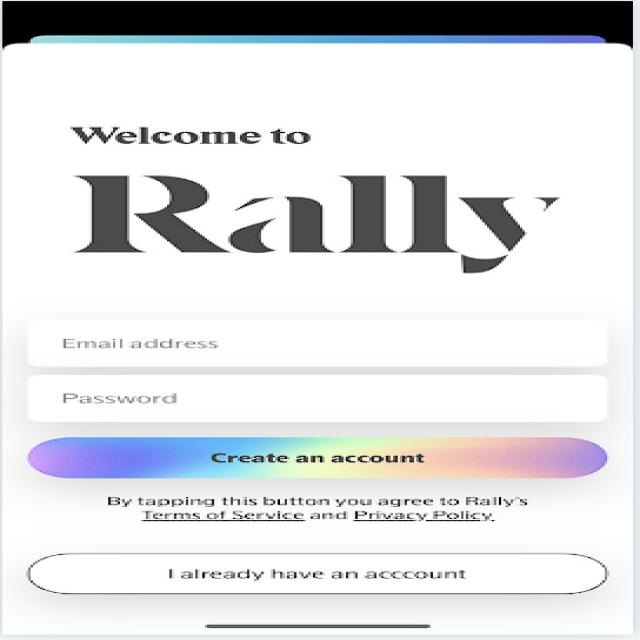button: (18, 432, 616, 488), (15, 547, 626, 599)
input: (9, 311, 618, 372), (6, 371, 628, 428)
text: (54, 109, 590, 279), (92, 491, 543, 535)
